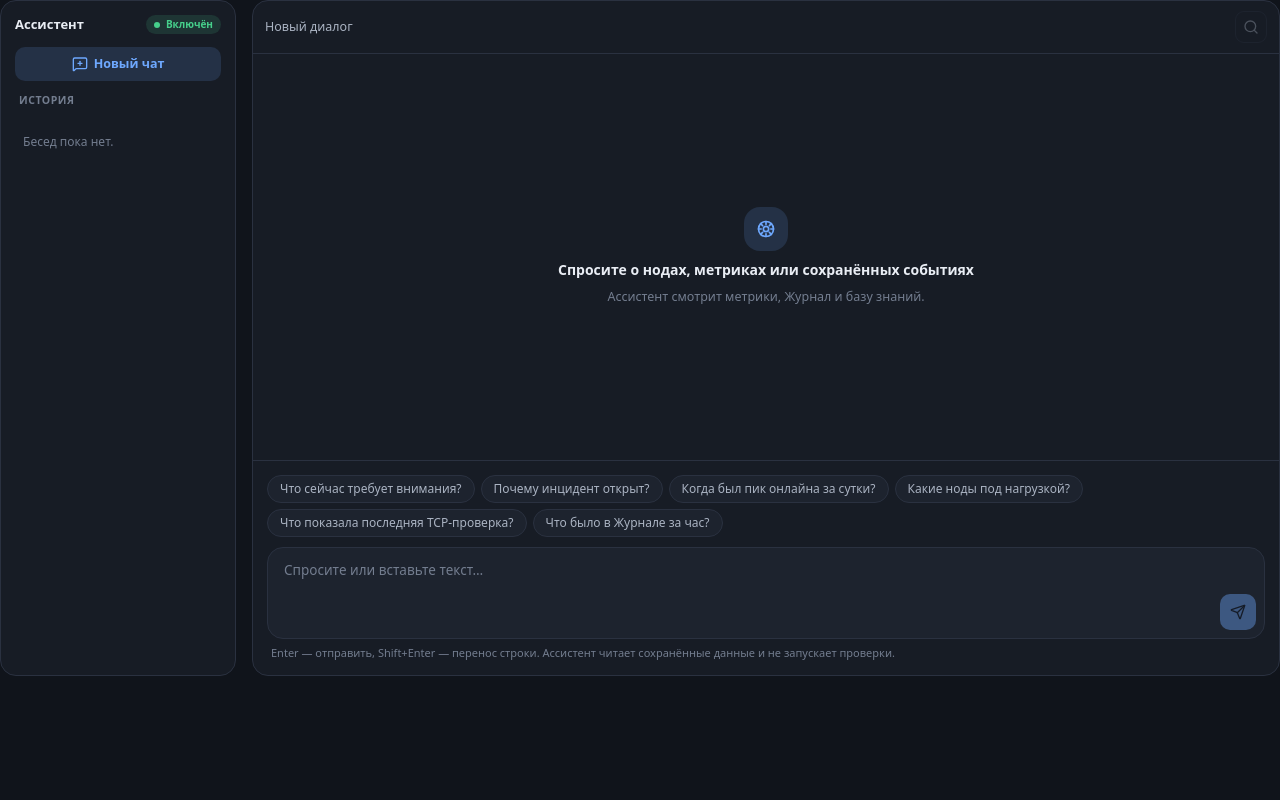
Scenario: AssistantPage › ответ без пузыря, несколько сообщений, источники › без источников строки «Основано на:» нет
In the text box named "Сообщение Ассистенту": [766, 570] box [276, 556, 1256, 586], type "Сервер доступен снаружи?"
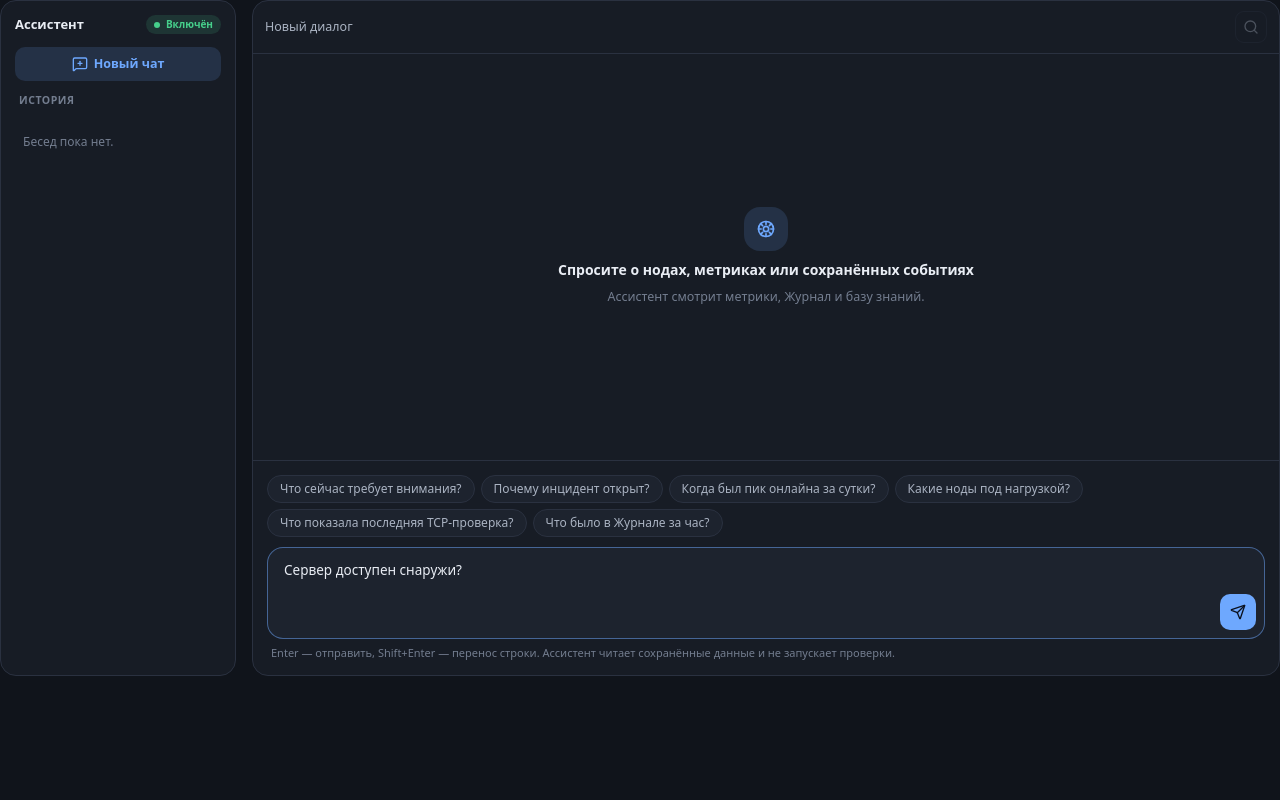
Click the button named "Отправить": [1238, 612] box [1220, 594, 1256, 630]
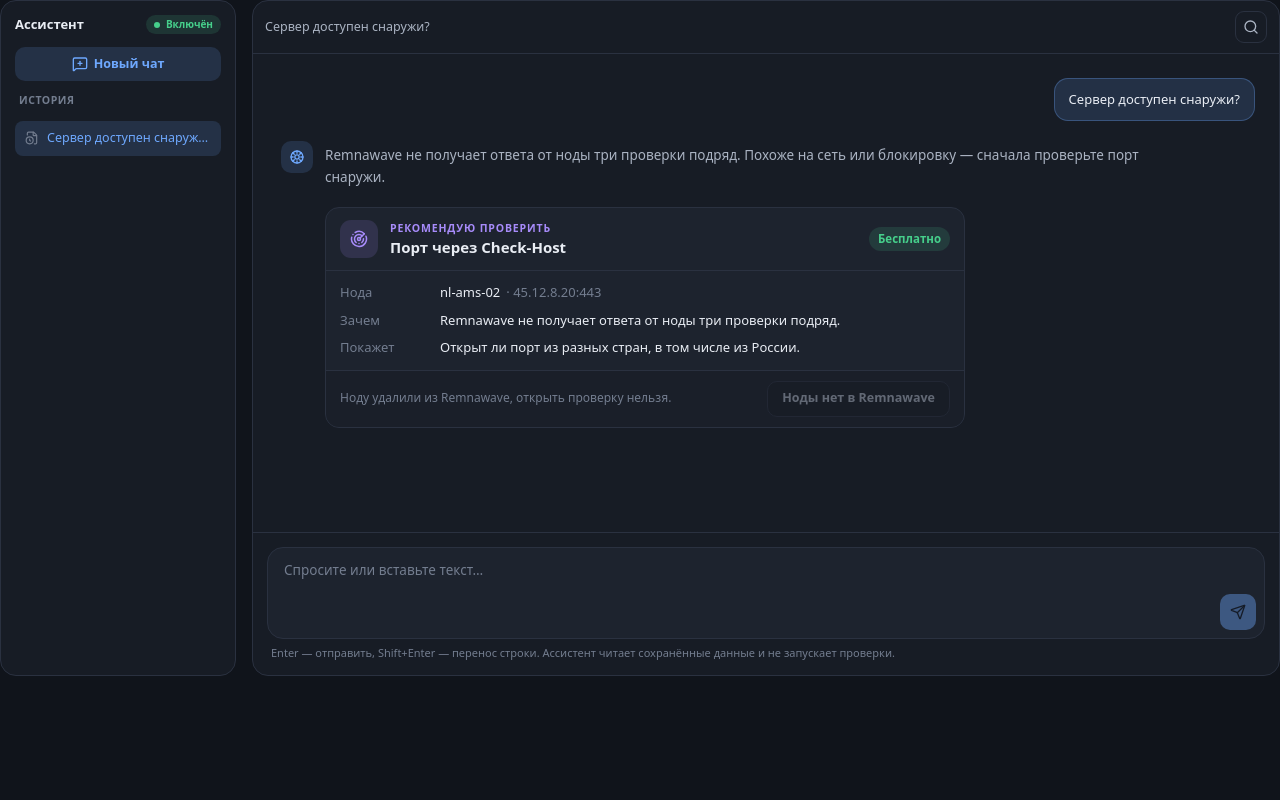
Now the text "сначала проверьте порт снаружи" is shown, box [325, 146, 1139, 186]
